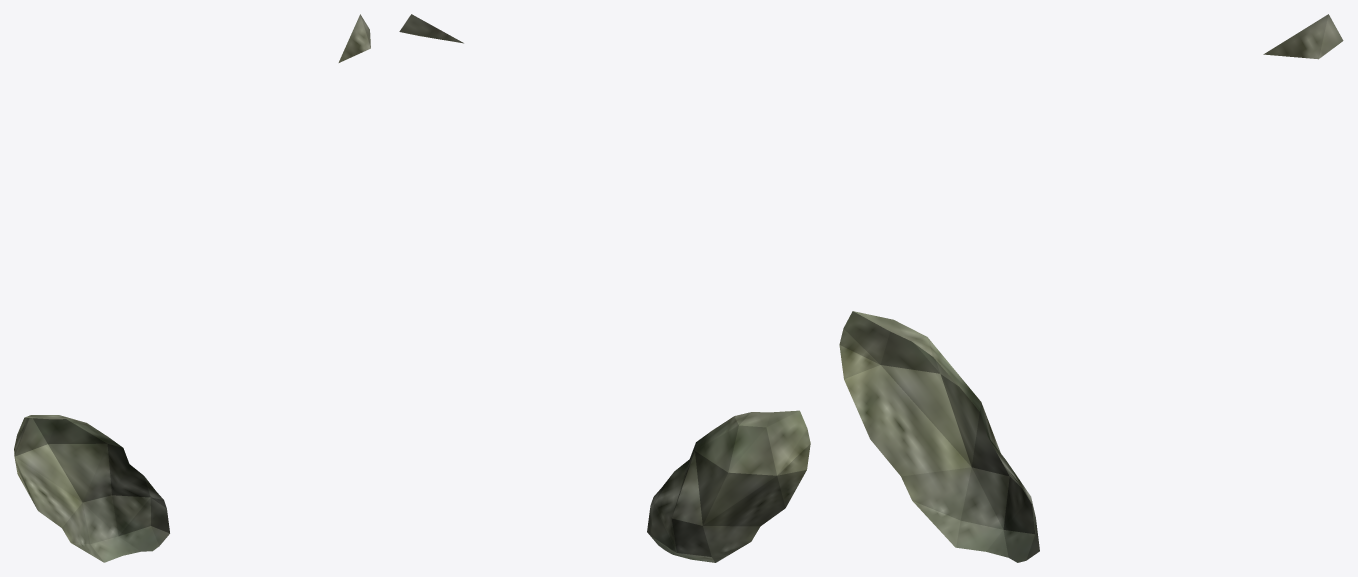
3 renders of one model, left to right at view 1: azimuth 30°, elevation 25°; view 2: azimuth 150°, elevation 25°; view 3: azimuth 330°, elevation 25°, orthographic. The views are drawn at different scales.
Size of the model in its own units: 1.96 by 2.35 by 0.2032.
Materials: 1 (1 with a texture image).
